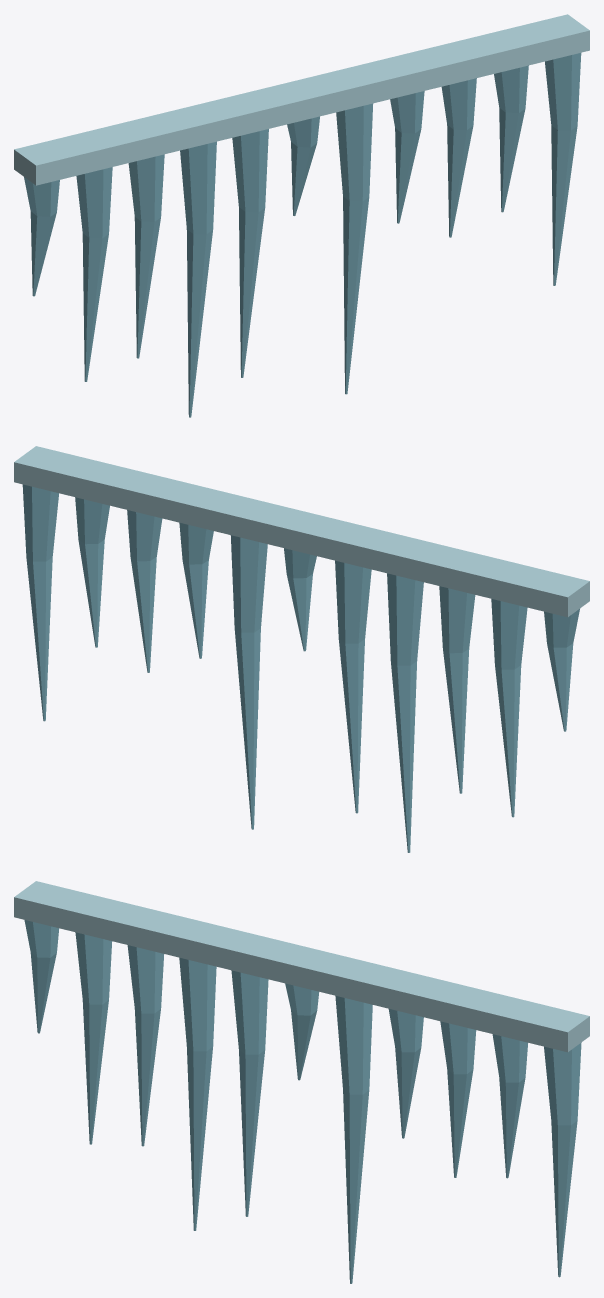
File: FROST_03_ClusterLarge.glb
3 renders of one model, top to bottom at view 1: azimuth 30°, elevation 25°; view 2: azimuth 150°, elevation 25°; view 3: azimuth 330°, elevation 25°, orthographic.
Visible parts, largest first — view 1: FROST_03_ClusterLarge; view 2: FROST_03_ClusterLarge; view 3: FROST_03_ClusterLarge.
Boxes of the visible parts, x1,y1,x2,y2 form: FROST_03_ClusterLarge: (14, 14, 589, 417); FROST_03_ClusterLarge: (14, 446, 589, 852); FROST_03_ClusterLarge: (14, 881, 589, 1283).
Bounding box in the file's own units: 2.6 × 1.42 × 0.18.
